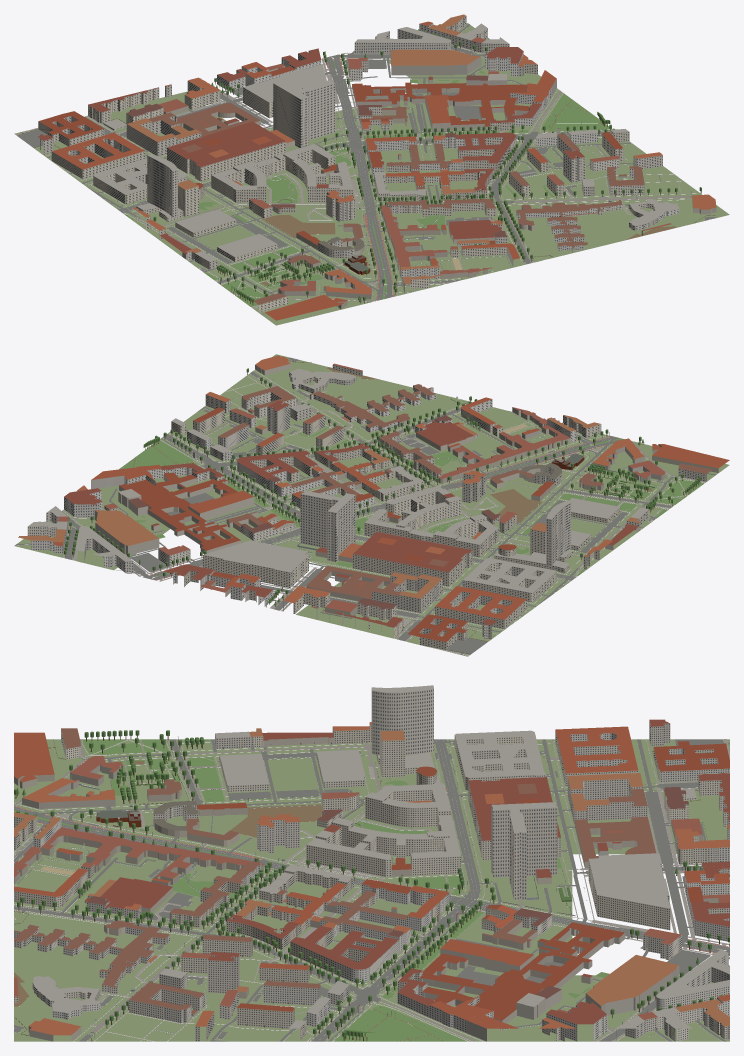
3 renders of one model, top to bottom at view 1: azimuth 30°, elevation 25°; view 2: azimuth 150°, elevation 25°; view 3: azimuth 270°, elevation 25°, orthographic. The views are drawn at different scales.
Bounding box in the file's own units: 751 × 81.62 × 751.
3 materials, 1 textured.
